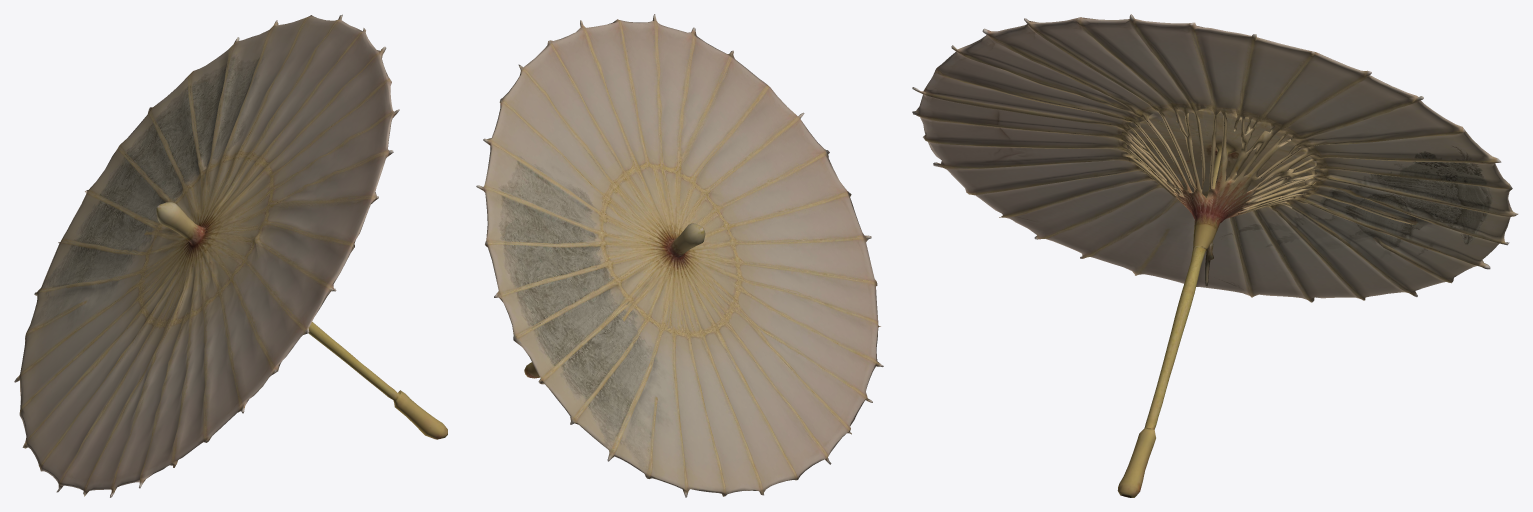
The model's file is tripo_input_142a63ab-fc3e-4ebf-9350-628e11bbd70e.fbx.
3 views of the same model, side by side, from view 1: azimuth 30°, elevation 25°; view 2: azimuth 150°, elevation 25°; view 3: azimuth 270°, elevation 25° (orthographic). The views are drawn at different scales.
Parts seen in each view (by area): view 1: tripo_node_819ddb13; view 2: tripo_node_819ddb13; view 3: tripo_node_819ddb13.
Boxes of the visible parts, x1,y1,x2,y2 form: tripo_node_819ddb13: (14, 14, 447, 497); tripo_node_819ddb13: (476, 14, 883, 497); tripo_node_819ddb13: (912, 14, 1518, 497).
Bounding box in the file's own units: 0.7744 × 0.8237 × 1.
Materials: 1 (1 with a texture image).
